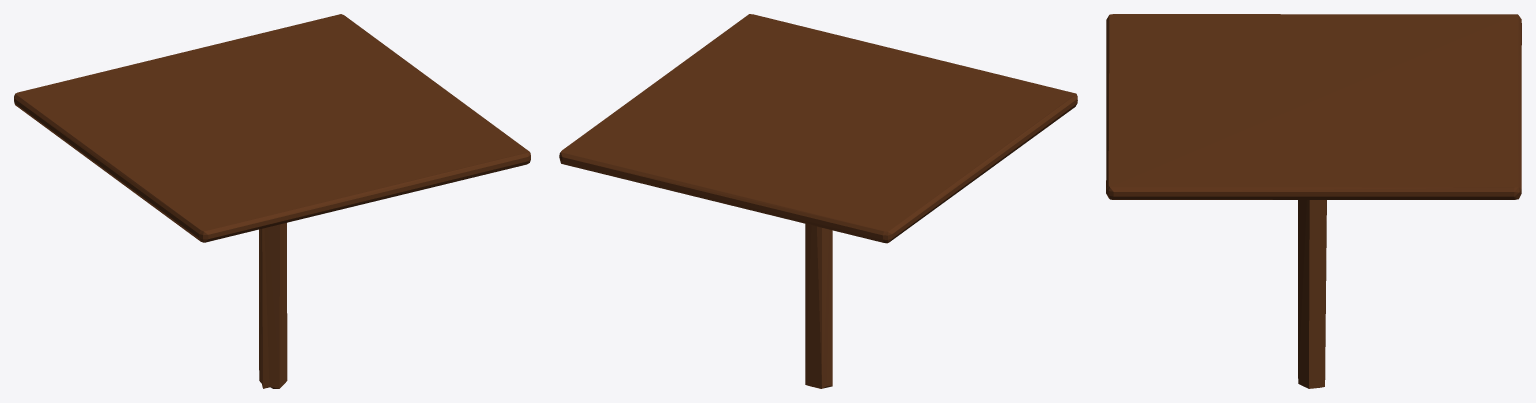
Rendered from Round Table(1).glb.
3 renders of one model, left to right at view 1: azimuth 30°, elevation 25°; view 2: azimuth 150°, elevation 25°; view 3: azimuth 270°, elevation 25°, orthographic. The views are drawn at different scales.
Parts seen in each view (by area): view 1: id0; view 2: id0; view 3: id0.
Boxes of the visible parts, bbox=[...] form: id0: bbox=[14, 14, 530, 388]; id0: bbox=[559, 14, 1077, 388]; id0: bbox=[1106, 14, 1521, 388].
Bounding box in the file's own units: 0.8209 × 0.6189 × 0.8209.
